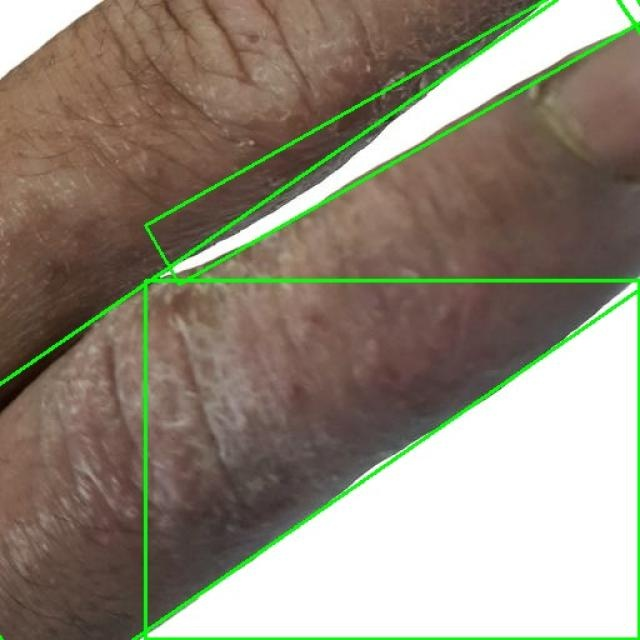Contact Dermatitis: (0, 0, 640, 640), (145, 280, 639, 639), (146, 0, 640, 284)
